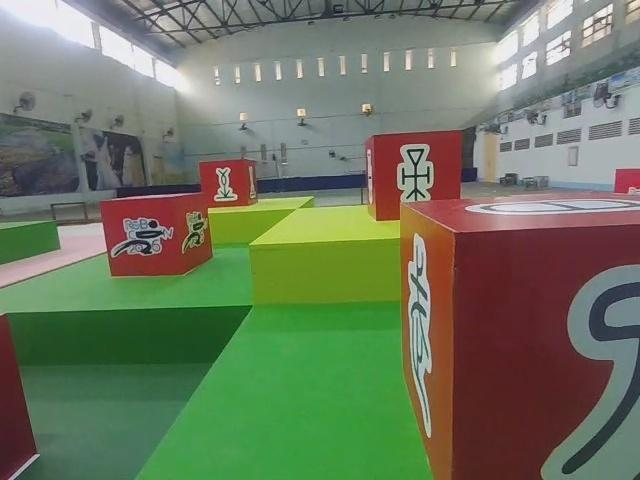R1: (97, 188, 216, 279)
R2 Fake: (393, 187, 640, 480)
R2 Real: (363, 127, 466, 225), (197, 155, 261, 211)
